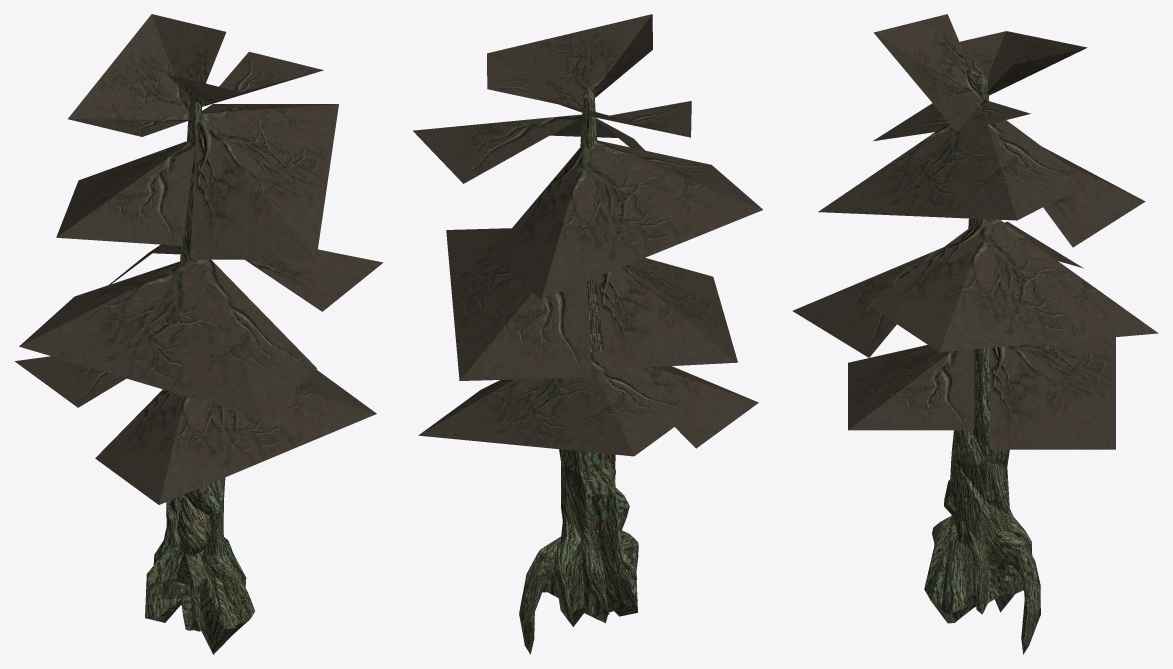
File: decd_dath_humungtree_a1_l0.fbx
The picture shows the model from 3 angles, left to right: view 1: azimuth 30°, elevation 25°; view 2: azimuth 150°, elevation 25°; view 3: azimuth 270°, elevation 25°; orthographic projection.
Parts seen in each view (by area): view 1: mesh_node; view 2: mesh_node; view 3: mesh_node.
Boxes of the visible parts, x1=… form: mesh_node: x1=14, y1=14, x2=383, y2=654; mesh_node: x1=413, y1=14, x2=762, y2=654; mesh_node: x1=792, y1=14, x2=1158, y2=654.
Size of the model in its own units: 44.63 by 78.28 by 43.38.
Materials: 3 (3 with a texture image).
